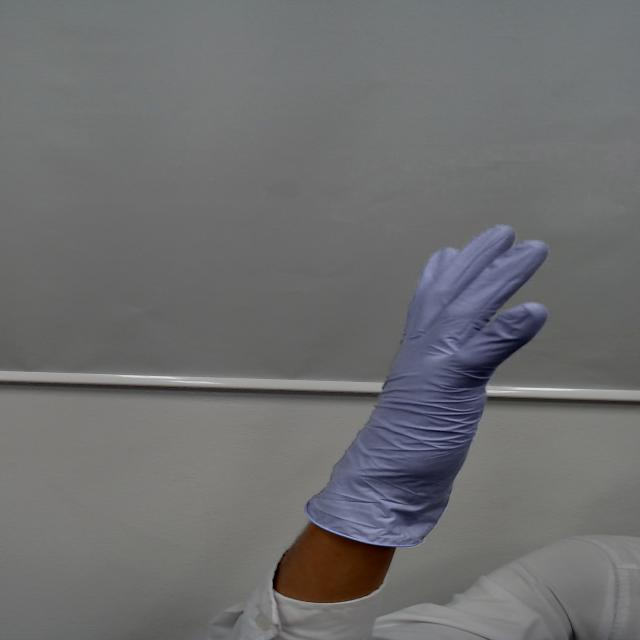glove: (340, 217, 568, 448)
